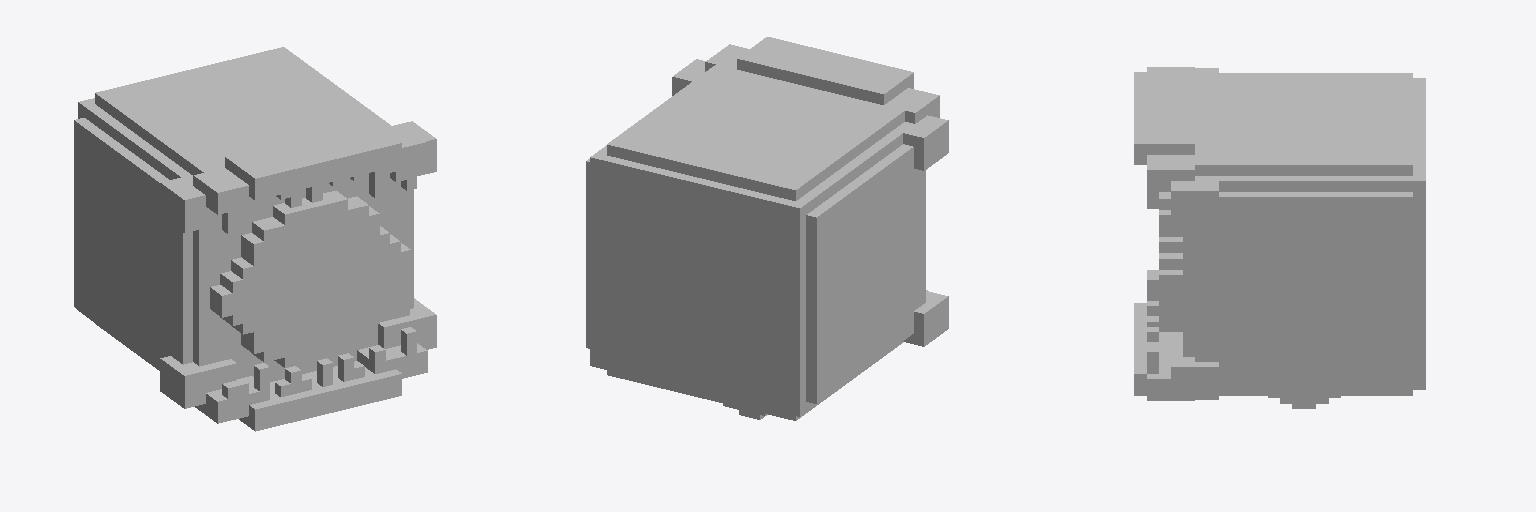
The model's file is retro Enemy.obj.
3 renders of one model, left to right at view 1: azimuth 30°, elevation 25°; view 2: azimuth 150°, elevation 25°; view 3: azimuth 270°, elevation 25°, orthographic.
Visible parts, largest first — view 1: object 1; view 2: object 1; view 3: object 1.
Part boxes in pixels (left/top/right/bottom): object 1: left=74, top=47, right=436, bottom=431; object 1: left=586, top=37, right=948, bottom=420; object 1: left=1134, top=67, right=1425, bottom=408.
Bounding box in the file's own units: 2.4 × 2.7 × 2.4.